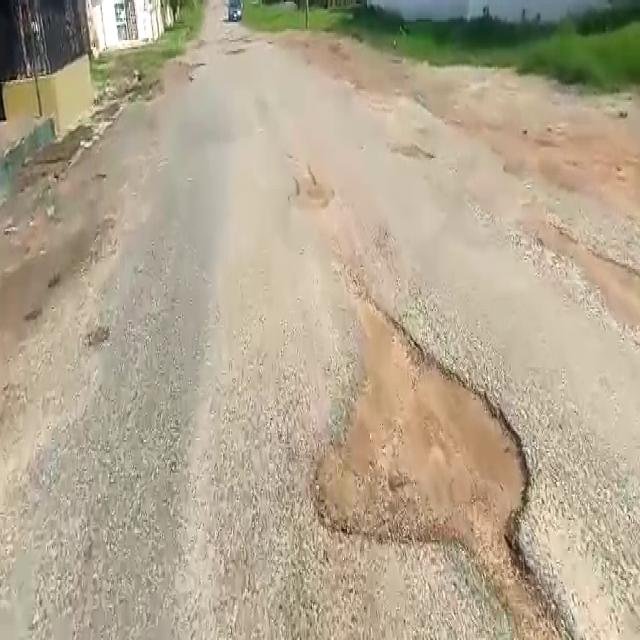Pothole: (304, 330, 541, 570), (508, 209, 640, 356), (288, 179, 332, 218), (390, 139, 435, 163)
